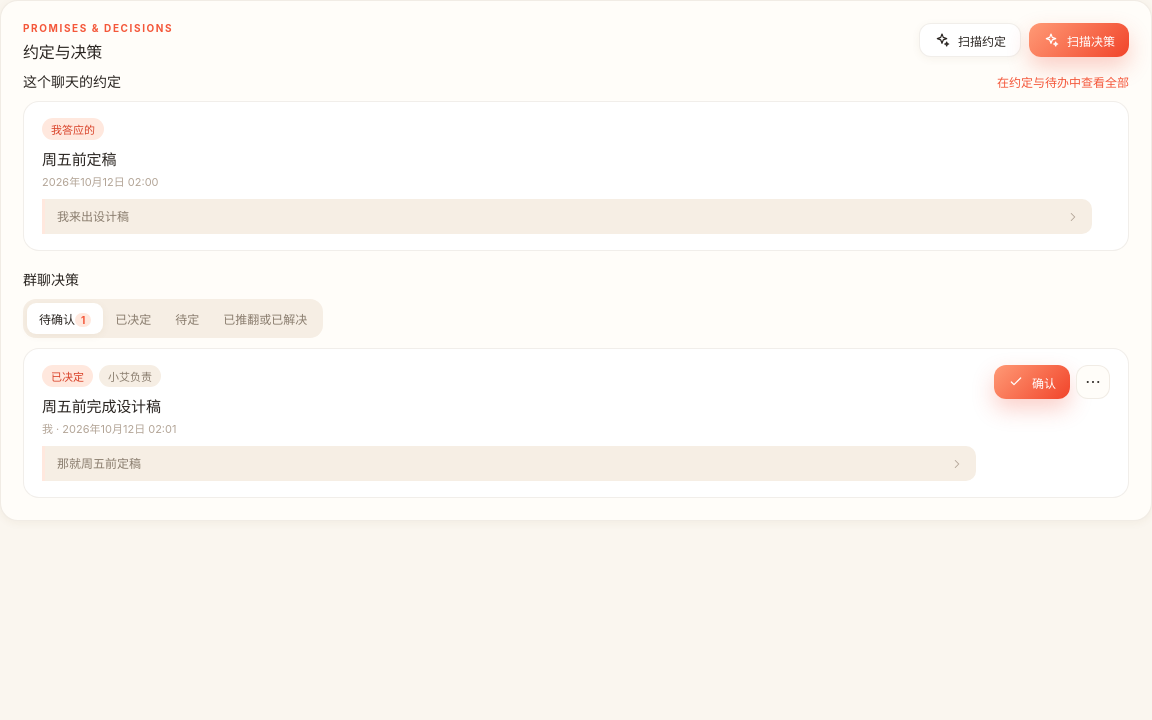
chat memory panel › opens the source message
What coordinates should you click on to do the following:
click the button with aria-label "查看原话"
I would click on:
 (99, 464)
Its box is [42,446,976,481].
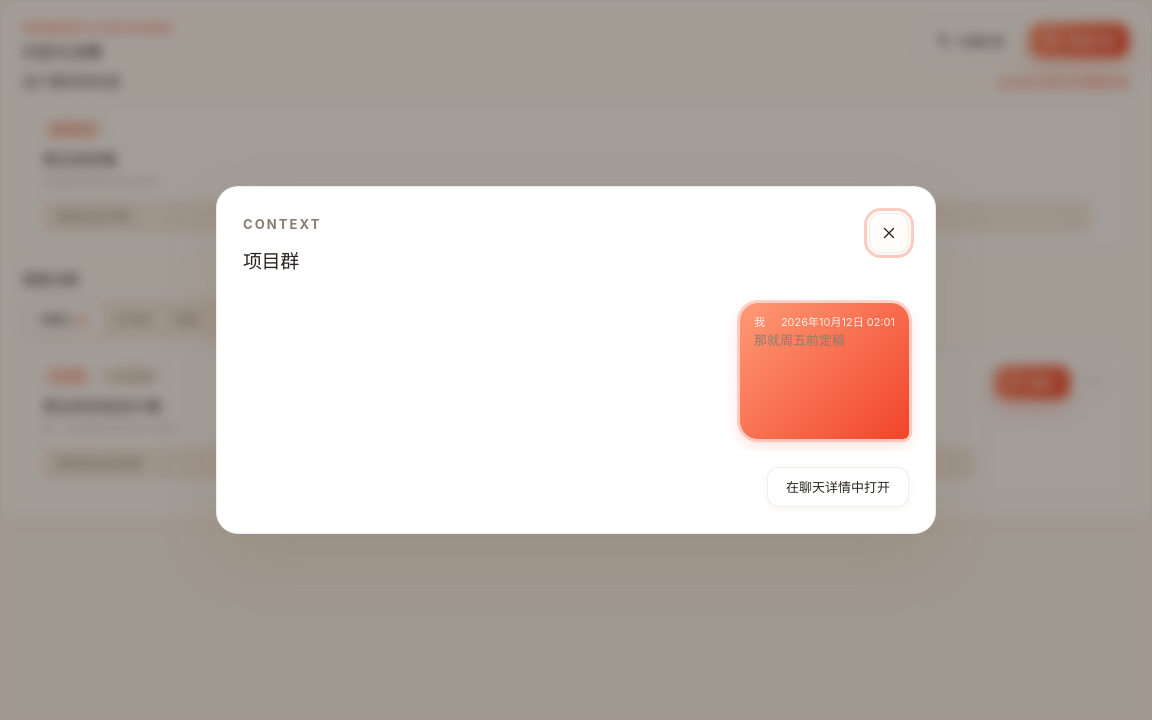
Check: the dialog named "项目群 的聊天上下文" is shown, box [216,186,936,534]
